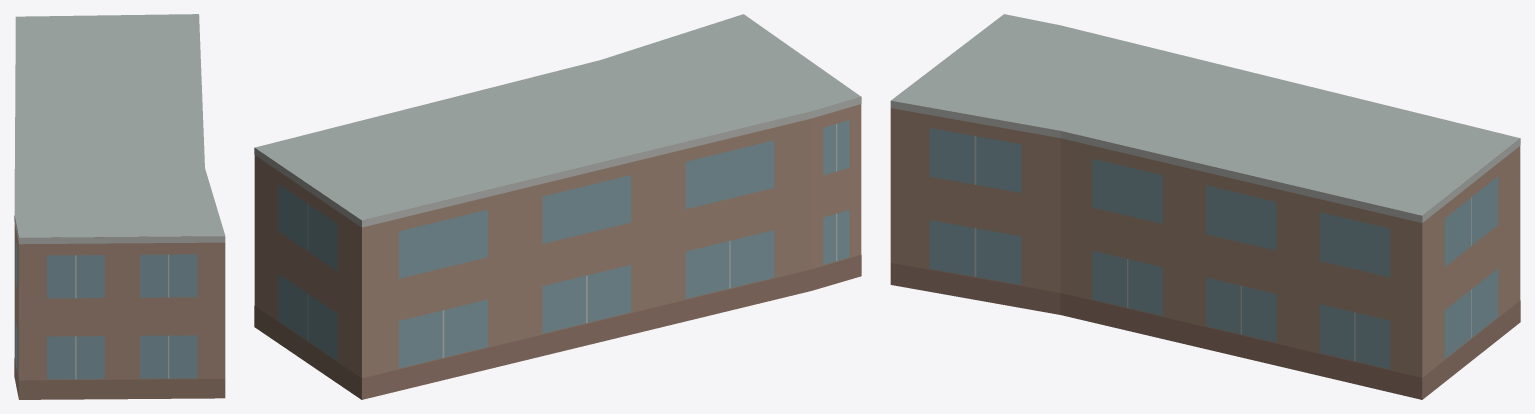
Rendered from survey-upis-32914817.glb.
3 renders of one model, left to right at view 1: azimuth 30°, elevation 25°; view 2: azimuth 150°, elevation 25°; view 3: azimuth 270°, elevation 25°, orthographic. The views are drawn at different scales.
Parts seen in each view (by area): view 1: survey-upis-32914817.tmp; view 2: survey-upis-32914817.tmp; view 3: survey-upis-32914817.tmp.
Part boxes in pixels (box(x1,y1,x2,y2)): survey-upis-32914817.tmp: box(14, 14, 225, 399); survey-upis-32914817.tmp: box(254, 14, 861, 399); survey-upis-32914817.tmp: box(890, 14, 1520, 399).
Size of the model in its own units: 14.34 by 6.1 by 18.92.
